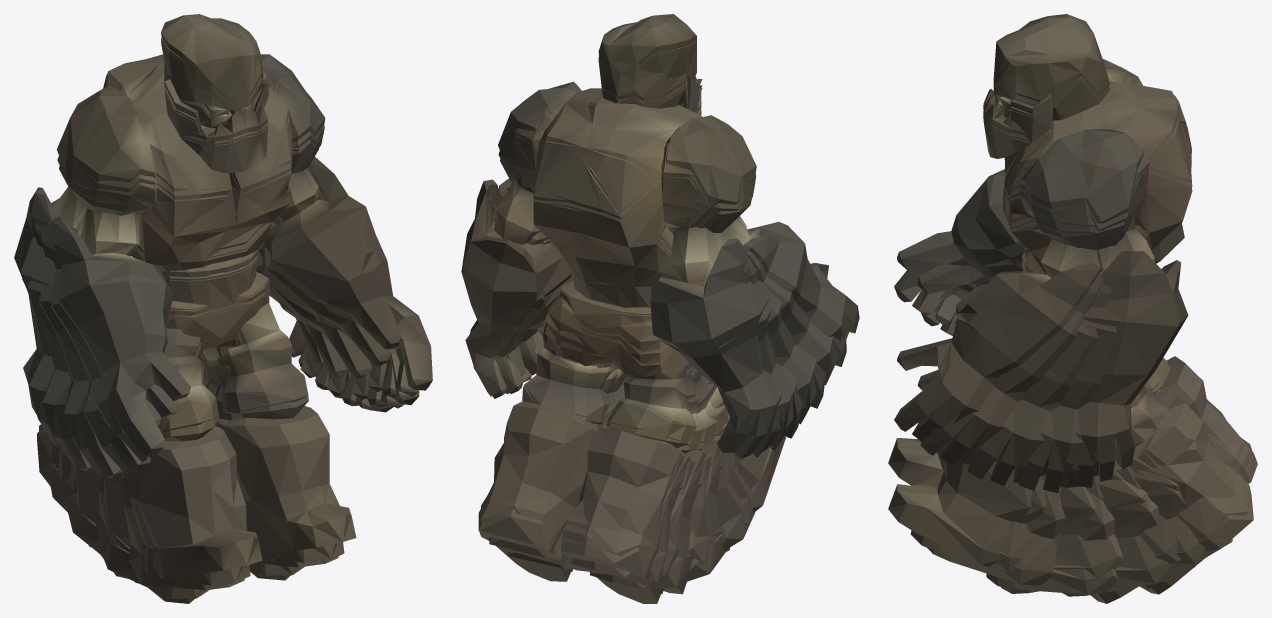
The model's file is golem.glb.
3 renders of one model, left to right at view 1: azimuth 30°, elevation 25°; view 2: azimuth 150°, elevation 25°; view 3: azimuth 270°, elevation 25°, orthographic. The views are drawn at different scales.
Visible parts, largest first — view 1: pose_2, pose_7, pose_8, pose_3, pose_0, pose_5, pose_9, pose_1, pose_4, pose_6; view 2: pose_2, pose_7, pose_8, pose_3, pose_0, pose_5, pose_9, pose_1, pose_6, pose_4; view 3: pose_7, pose_8, pose_2, pose_3, pose_0, pose_4, pose_6, pose_9, pose_5, pose_1.
Boxes of the visible parts, left/top/right/bottom form: pose_2: left=25, top=15, right=432, bottom=579; pose_7: left=37, top=16, right=356, bottom=555; pose_8: left=48, top=14, right=344, bottom=562; pose_3: left=14, top=14, right=431, bottom=585; pose_0: left=38, top=41, right=392, bottom=598; pose_5: left=60, top=41, right=393, bottom=578; pose_9: left=48, top=38, right=350, bottom=583; pose_1: left=28, top=45, right=419, bottom=590; pose_4: left=22, top=37, right=418, bottom=603; pose_6: left=39, top=46, right=349, bottom=567; pose_2: left=478, top=14, right=785, bottom=571; pose_7: left=466, top=19, right=859, bottom=593; pose_8: left=461, top=15, right=857, bottom=582; pose_3: left=489, top=14, right=785, bottom=560; pose_0: left=492, top=47, right=825, bottom=581; pose_5: left=492, top=44, right=825, bottom=594; pose_9: left=489, top=46, right=838, bottom=588; pose_1: left=480, top=42, right=802, bottom=581; pose_6: left=486, top=46, right=846, bottom=603; pose_4: left=499, top=41, right=797, bottom=568; pose_7: left=888, top=14, right=1257, bottom=567; pose_8: left=894, top=17, right=1189, bottom=572; pose_2: left=888, top=14, right=1253, bottom=588; pose_3: left=897, top=14, right=1232, bottom=571; pose_0: left=956, top=80, right=1183, bottom=603; pose_4: left=917, top=71, right=1194, bottom=596; pose_6: left=917, top=67, right=1253, bottom=585; pose_9: left=917, top=84, right=1191, bottom=593; pose_5: left=956, top=81, right=1183, bottom=594; pose_1: left=918, top=68, right=1249, bottom=594.
Bounding box in the file's own units: 0.5942 × 1.02 × 0.6152.
